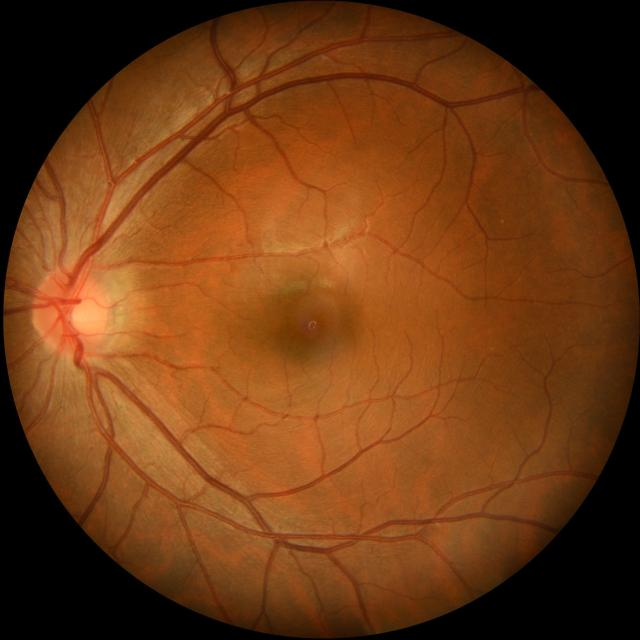OC: (70, 298, 96, 332)
OD: (32, 268, 108, 354)
